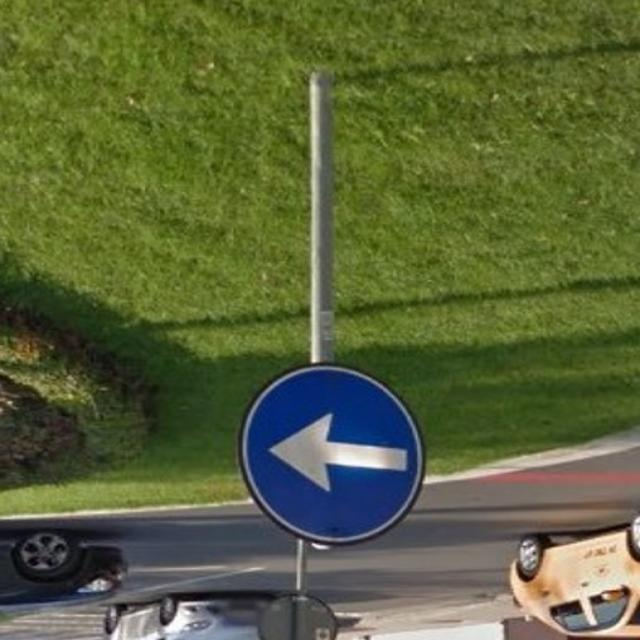Turn Left: (239, 360, 429, 562)
